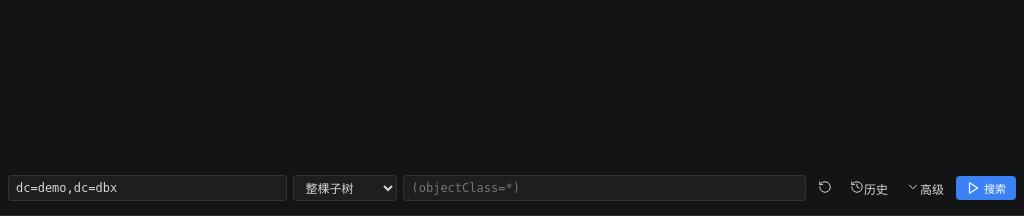
SearchForm search history › records searches locally, persists them and restores after remount
Click the button with class "history-toggle" at (869, 188), box left=844, top=176, right=894, bottom=200
(page scrolled)
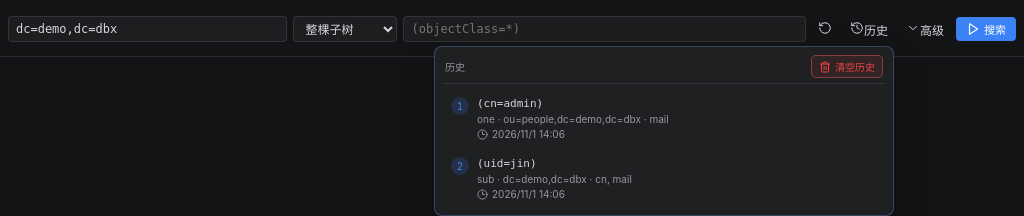
Now the number of buttons with class "history-item" is 2, box left=443, top=90, right=885, bottom=147; left=443, top=150, right=885, bottom=207
Now the button with class "history-item" shows "(cn=admin)", box left=443, top=90, right=885, bottom=147
Now the button with class "history-item" shows "ou=people,dc=demo,dc=dbx", box left=443, top=90, right=885, bottom=147
